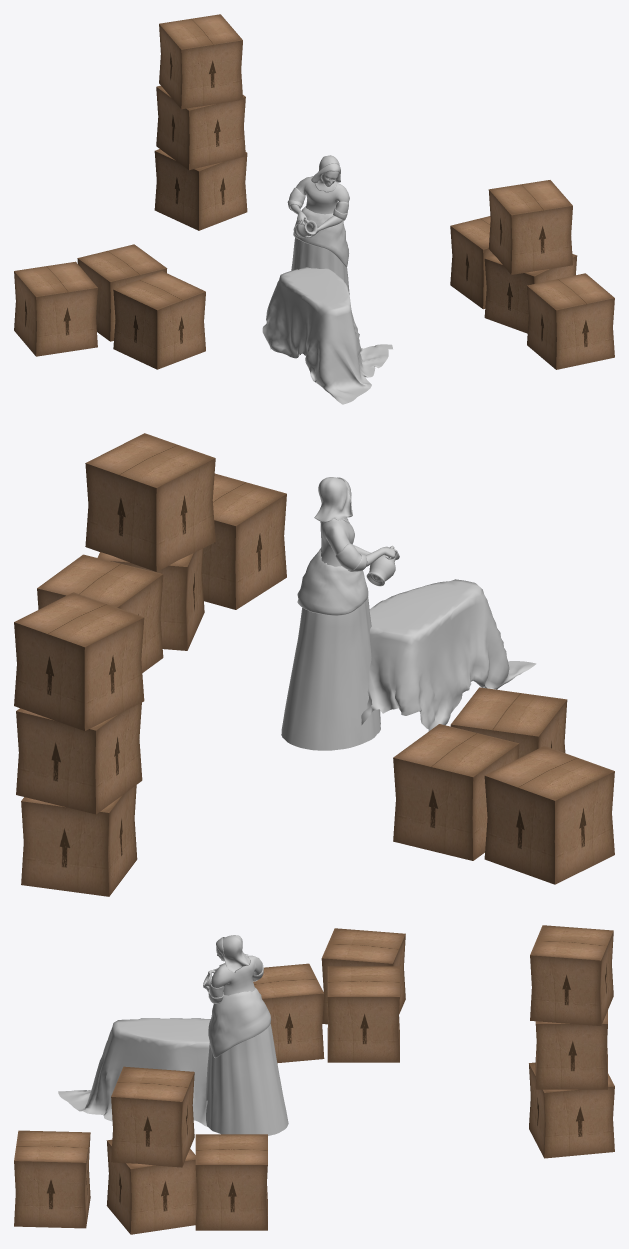
Rendered from export_museumprops.babylon.gltf.
The picture shows the model from 3 angles, top to bottom: view 1: azimuth 30°, elevation 25°; view 2: azimuth 150°, elevation 25°; view 3: azimuth 270°, elevation 25°; orthographic projection. The views are drawn at different scales.
Visible parts, largest first — view 1: tablecloth:mesh_0, pCube5, pCube10, pCube3, pCube9, pCube6, pCube7, pCube8, pCube4, pCube2, pCube1, Milkmaid:headtorso_0 (+1 smaller); view 2: tablecloth:mesh_0, pCube6, pCube9, pCube3, Milkmaid:headtorso_0, pCube4, pCube8, pCube7, pCube10, pCube1, pCube5, pCube2 (+3 smaller); view 3: Milkmaid:headtorso_0, pCube9, pCube3, tablecloth:mesh_0, pCube10, pCube4, pCube1, pCube2, pCube7, pCube5, pCube8, pCube6 (+2 smaller).
Boxes of the visible parts, box(x1,y1,x2,y2) form: tablecloth:mesh_0: box(262, 267, 392, 404); pCube5: box(113, 271, 205, 369); pCube10: box(527, 273, 614, 369); pCube3: box(488, 180, 572, 274); pCube9: box(159, 14, 242, 109); pCube6: box(14, 261, 97, 356); pCube7: box(154, 149, 247, 230); pCube8: box(156, 85, 245, 170); pCube4: box(77, 244, 167, 341); pCube2: box(484, 254, 577, 333); pCube1: box(450, 216, 492, 309); Milkmaid:headtorso_0: box(287, 176, 349, 294); tablecloth:mesh_0: box(361, 579, 536, 731); pCube6: box(484, 746, 614, 884); pCube9: box(14, 592, 144, 730); pCube3: box(85, 433, 215, 571); Milkmaid:headtorso_0: box(281, 518, 380, 750); pCube4: box(393, 724, 519, 860); pCube8: box(16, 702, 142, 814); pCube7: box(21, 785, 137, 896); pCube10: box(202, 473, 286, 609); pCube1: box(37, 554, 163, 672); pCube5: box(450, 687, 567, 758); pCube2: box(97, 548, 204, 650); Milkmaid:headtorso_0: box(205, 955, 288, 1135); pCube9: box(530, 925, 613, 1025); pCube3: box(111, 1066, 194, 1167); tablecloth:mesh_0: box(58, 1018, 210, 1126); pCube10: box(14, 1130, 90, 1228); pCube4: box(327, 966, 399, 1062); pCube1: box(195, 1134, 267, 1230); pCube2: box(106, 1139, 196, 1234); pCube7: box(529, 1062, 614, 1158); pCube5: box(253, 963, 324, 1063); pCube8: box(535, 1010, 607, 1089); pCube6: box(321, 928, 405, 1024).
Bounding box in the file's own units: 0.054 × 0.0209 × 0.057.
